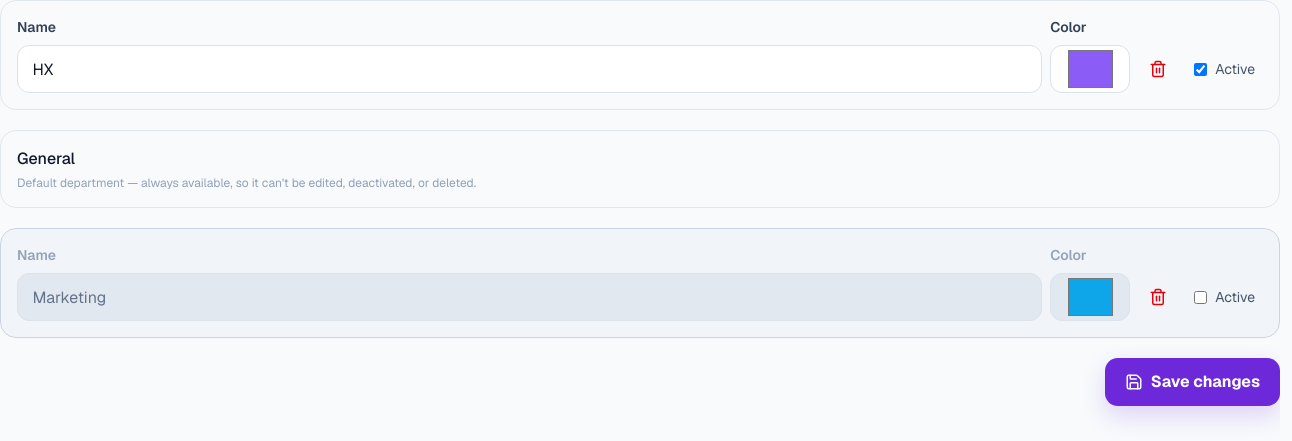
Test: DepartmentsBulkForm › shows 'Saved.' next to the Save changes button
Click the button "Save changes" at (1192, 382), box [1105,358,1280,406]
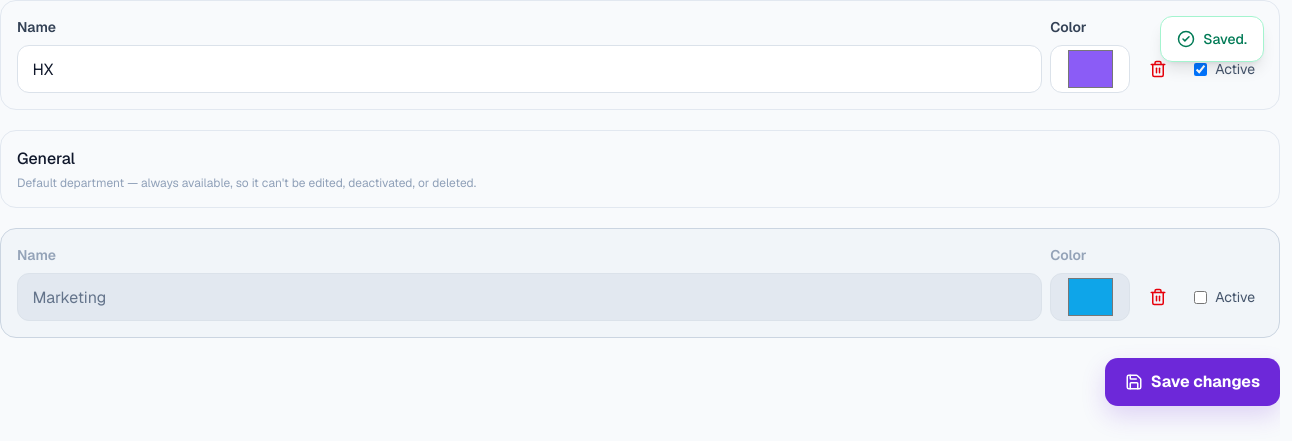
Check: the message reads "Saved.", box [1203,30,1247,48]
